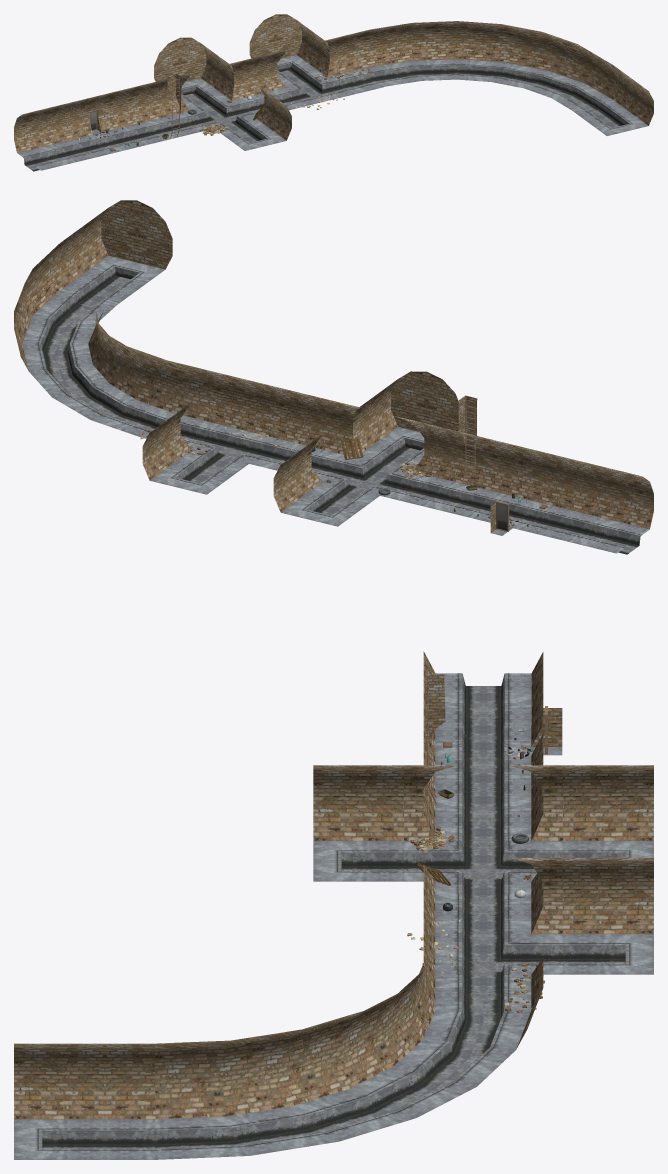
The model's file is sewers.glb.
The picture shows the model from 3 angles, top to bottom: view 1: azimuth 30°, elevation 25°; view 2: azimuth 150°, elevation 25°; view 3: azimuth 270°, elevation 25°; orthographic projection. The views are drawn at different scales.
Parts seen in each view (by area): view 1: Serwers_023, Serwers_020, Serwers_017, Serwers_009, Serwers_016, Serwers_019, Serwers_018, Serwers_021, Serwers_025, Serwers_024, Serwers_022; view 2: Serwers_023, Serwers_021, Serwers_025, Serwers_020, Serwers_009, Serwers_024, Serwers_018, Serwers_019, Serwers_016, Serwers_017, Serwers_022; view 3: Serwers_023, Serwers_018, Serwers_017, Serwers_024, Serwers_025, Serwers_021, Serwers_016, Serwers_020, Serwers_019, Serwers_009, Serwers_022.
Part boxes in pixels (x1,y1,x2,y2): Serwers_023: (337,21,630,121); Serwers_020: (121,73,200,144); Serwers_017: (249,14,324,83); Serwers_009: (14,101,94,171); Serwers_016: (154,37,228,106); Serwers_019: (67,88,146,157); Serwers_018: (174,59,268,136); Serwers_021: (269,35,364,108); Serwers_025: (584,74,653,135); Serwers_024: (222,89,291,150); Serwers_022: (242,52,296,111); Serwers_023: (14,231,210,440); Serwers_021: (174,368,304,474); Serwers_025: (70,200,172,294); Serwers_020: (398,395,508,517); Serwers_009: (544,458,653,554); Serwers_024: (359,371,458,466); Serwers_018: (305,400,435,505); Serwers_019: (471,441,580,535); Serwers_016: (273,442,368,526); Serwers_017: (142,410,237,494); Serwers_022: (268,391,341,472); Serwers_023: (104,963,543,1159); Serwers_018: (404,765,562,907); Serwers_017: (562,858,653,974); Serwers_024: (313,765,404,881); Serwers_025: (14,1043,105,1159); Serwers_021: (423,858,562,1000); Serwers_016: (562,765,653,857); Serwers_020: (423,674,543,840); Serwers_019: (423,703,562,789); Serwers_009: (423,651,543,737); Serwers_022: (423,873,543,933).
Bounding box in the file's own units: 64.14 × 8.31 × 35.29.
12 materials, 12 textured.
